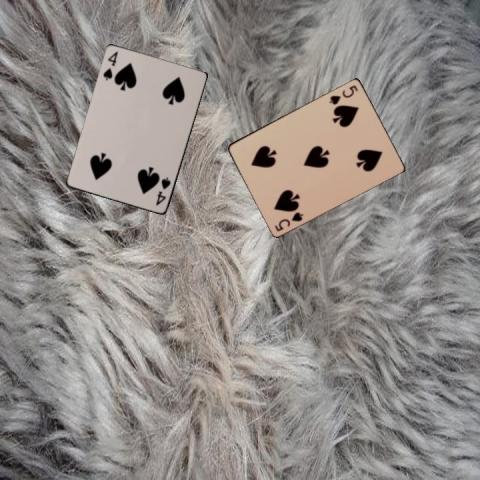4s: (100, 49, 119, 82), (153, 175, 172, 207)
5s: (327, 82, 359, 106), (272, 209, 305, 232)
